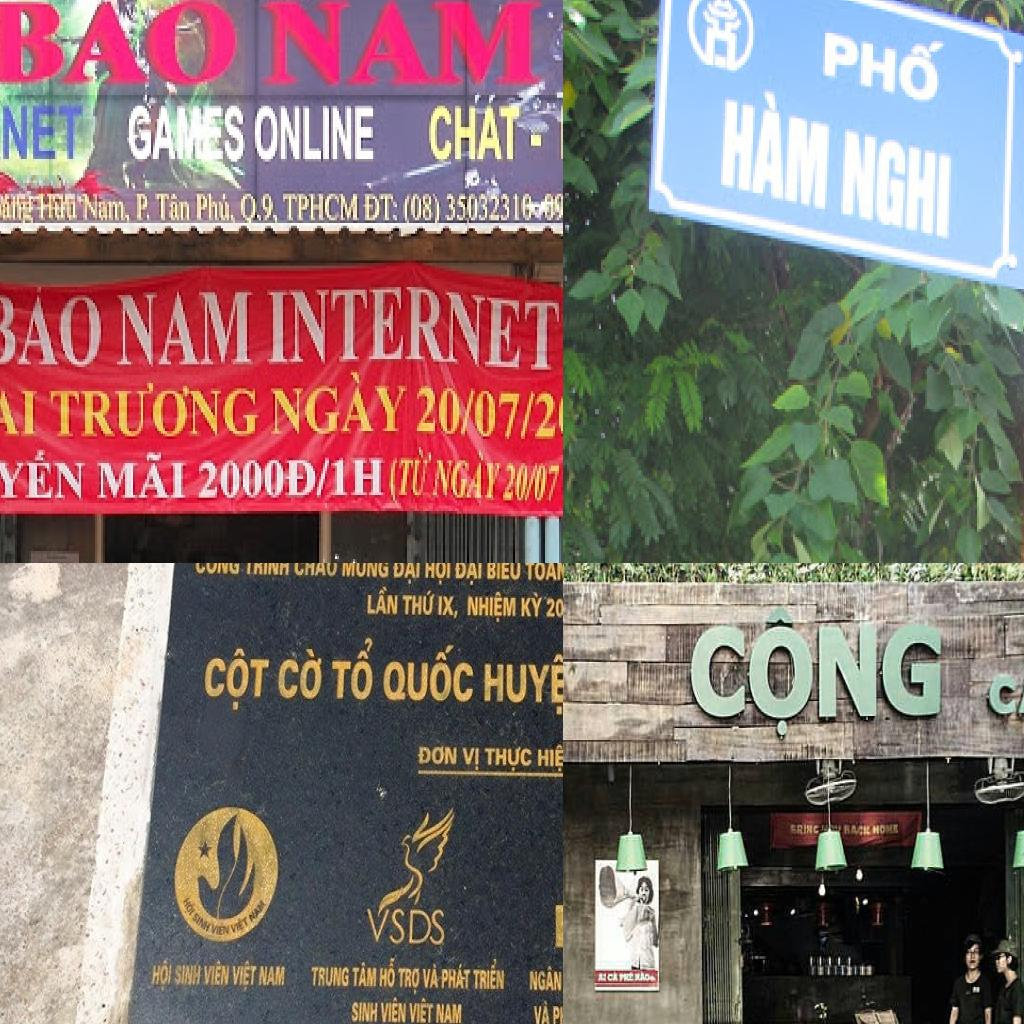text: (690, 605, 942, 739), (267, 287, 563, 378), (261, 0, 545, 87), (0, 0, 239, 87), (717, 78, 837, 220), (817, 14, 951, 116), (49, 383, 263, 439), (115, 292, 257, 370), (269, 370, 413, 436), (415, 382, 563, 444), (0, 292, 105, 369), (253, 103, 377, 164), (127, 106, 247, 164), (427, 92, 523, 164), (382, 643, 476, 703), (197, 458, 321, 503), (481, 651, 563, 717), (0, 447, 89, 505), (0, 105, 85, 164), (95, 450, 189, 503), (200, 648, 272, 713), (403, 191, 521, 226), (431, 450, 507, 503), (366, 906, 446, 946), (330, 636, 375, 702), (389, 444, 435, 506), (501, 460, 563, 505), (276, 649, 324, 702), (283, 194, 361, 226), (0, 385, 41, 439), (135, 191, 193, 226), (988, 663, 1024, 718), (465, 590, 518, 624), (83, 194, 133, 226), (482, 746, 535, 774), (195, 194, 239, 226), (39, 194, 79, 226), (241, 194, 281, 226), (472, 958, 507, 993), (363, 194, 399, 226), (365, 585, 400, 616), (528, 964, 563, 994), (230, 959, 260, 993), (402, 589, 436, 618), (416, 746, 459, 767), (441, 963, 472, 992), (310, 966, 350, 988), (150, 959, 174, 995), (203, 959, 232, 988), (535, 744, 563, 774), (379, 996, 408, 1024), (519, 590, 546, 620), (340, 563, 389, 579), (524, 563, 563, 583), (173, 963, 203, 989), (452, 563, 483, 588), (397, 965, 422, 996), (315, 458, 333, 500), (408, 996, 435, 1024), (244, 563, 291, 579), (292, 563, 338, 579), (351, 962, 378, 989), (194, 563, 242, 578), (258, 965, 288, 989), (390, 563, 422, 585), (350, 1000, 379, 1024), (424, 563, 451, 588), (177, 892, 200, 921), (487, 563, 522, 582), (434, 1002, 464, 1024), (230, 912, 252, 941), (379, 956, 397, 990), (248, 898, 268, 928), (190, 911, 213, 936), (461, 746, 482, 773), (437, 595, 460, 619), (422, 963, 441, 992), (531, 999, 552, 1024), (543, 597, 563, 620), (843, 822, 871, 838), (209, 920, 231, 938), (0, 193, 13, 223), (872, 824, 894, 837), (552, 1000, 563, 1024), (796, 822, 808, 836), (608, 971, 619, 983), (597, 972, 608, 983)
